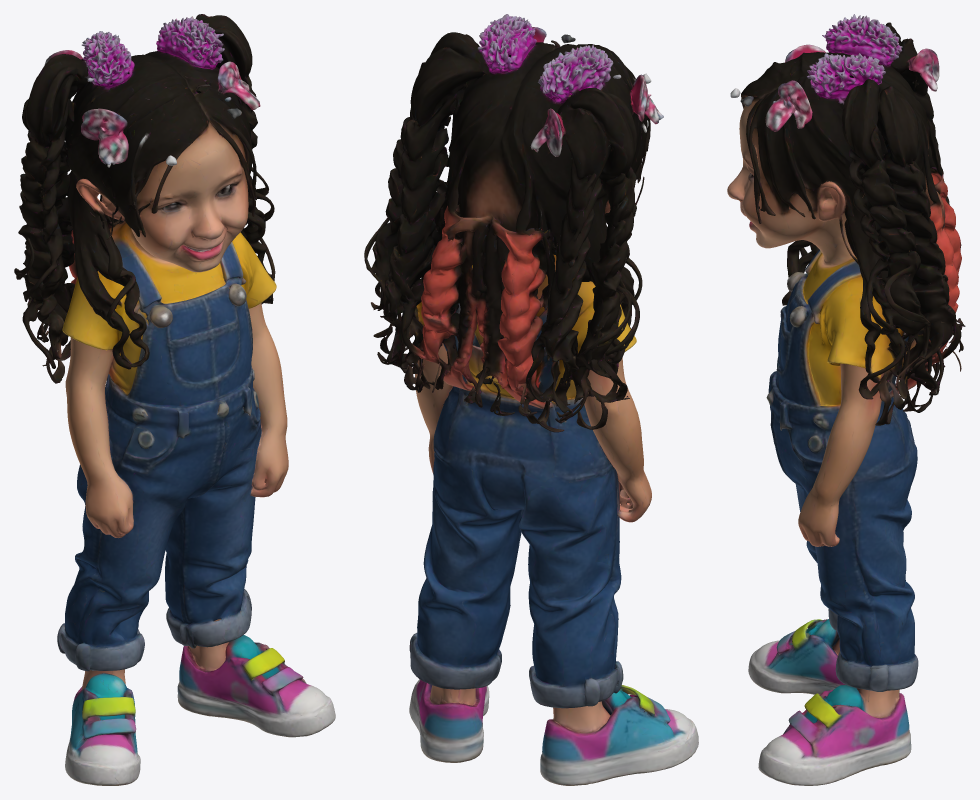
The model's file is karma.glb.
3 renders of one model, left to right at view 1: azimuth 30°, elevation 25°; view 2: azimuth 150°, elevation 25°; view 3: azimuth 270°, elevation 25°, orthographic. The views are drawn at different scales.
Visible parts, largest first — view 1: world; view 2: world; view 3: world.
Boxes of the visible parts, x1,y1,x2,y2 form: world: [14, 14, 335, 785]; world: [364, 14, 698, 785]; world: [727, 14, 965, 785].
Size of the model in its own units: 0.3882 by 0.9996 by 0.3168.
1 material, 1 textured.
